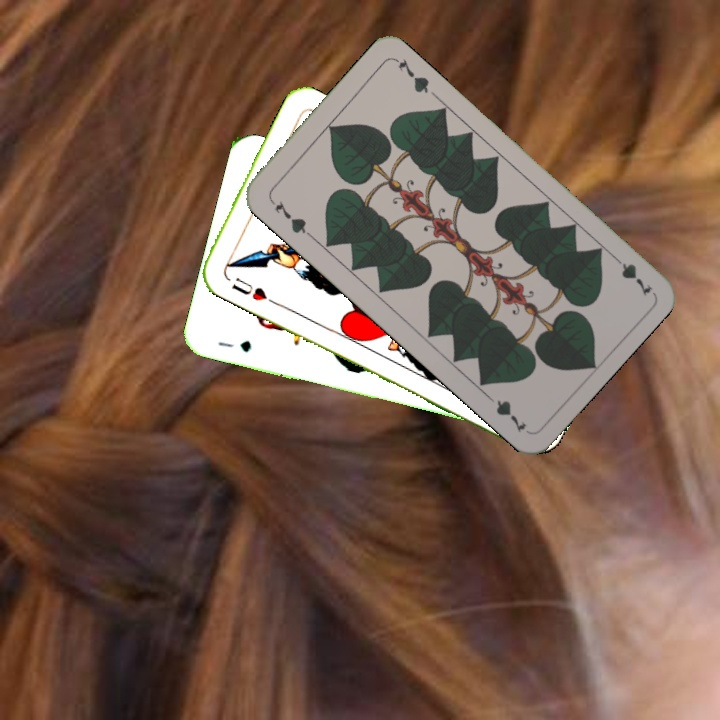G7: (607, 249, 655, 299), (266, 195, 314, 239)
GU: (214, 336, 254, 355)
HU: (228, 273, 270, 304)
